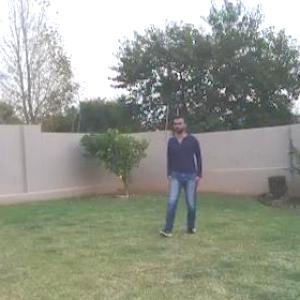follow: (160, 111, 204, 238)
